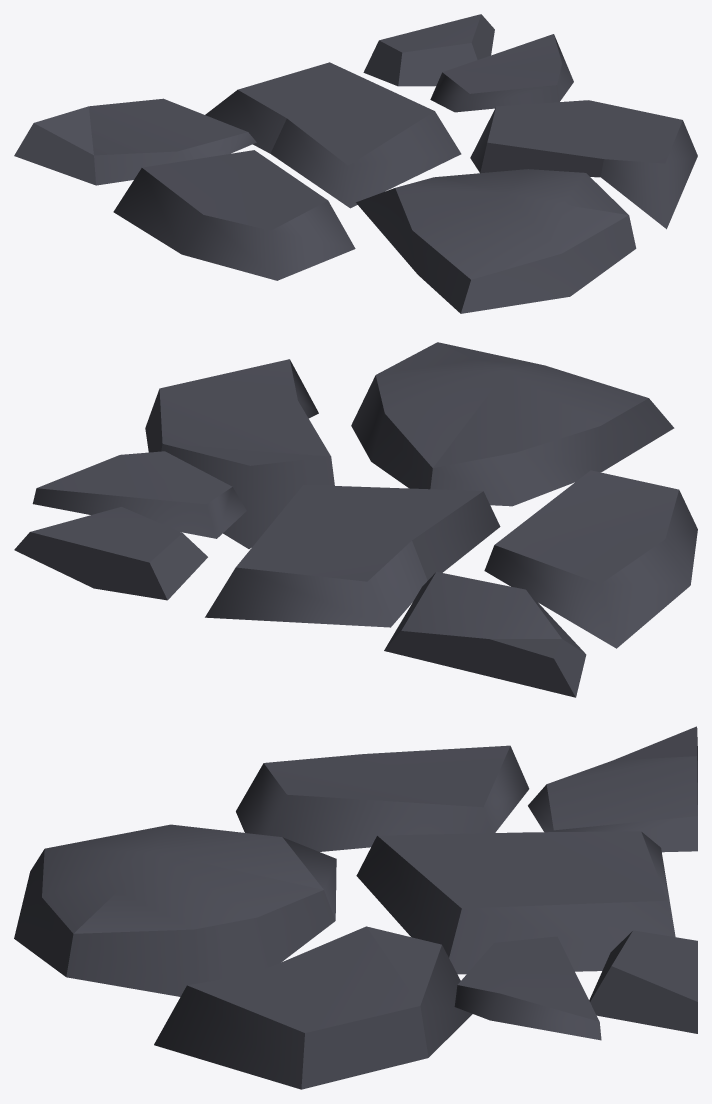
The model's file is Stone_Path_Ending_B.fbx.
3 renders of one model, top to bottom at view 1: azimuth 30°, elevation 25°; view 2: azimuth 150°, elevation 25°; view 3: azimuth 270°, elevation 25°, orthographic. The views are drawn at different scales.
Parts seen in each view (by area): view 1: Stone_Path_Ending_B; view 2: Stone_Path_Ending_B; view 3: Stone_Path_Ending_B.
Boxes of the visible parts, <box> form: Stone_Path_Ending_B: <box>14,14,697,313</box>; Stone_Path_Ending_B: <box>14,342,697,697</box>; Stone_Path_Ending_B: <box>14,726,697,1089</box>.
Bounding box in the file's own units: 94.62 × 13.95 × 84.69.
